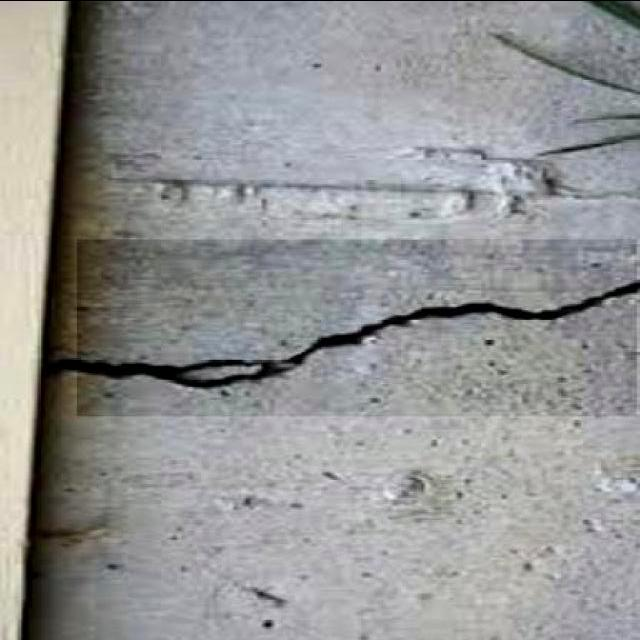SurfaceCrack: (28, 246, 640, 416)
